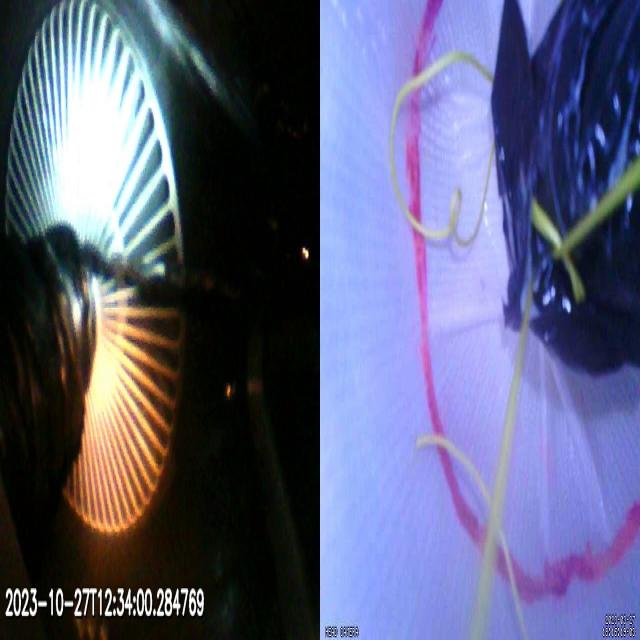red-circle: (406, 0, 640, 600)
